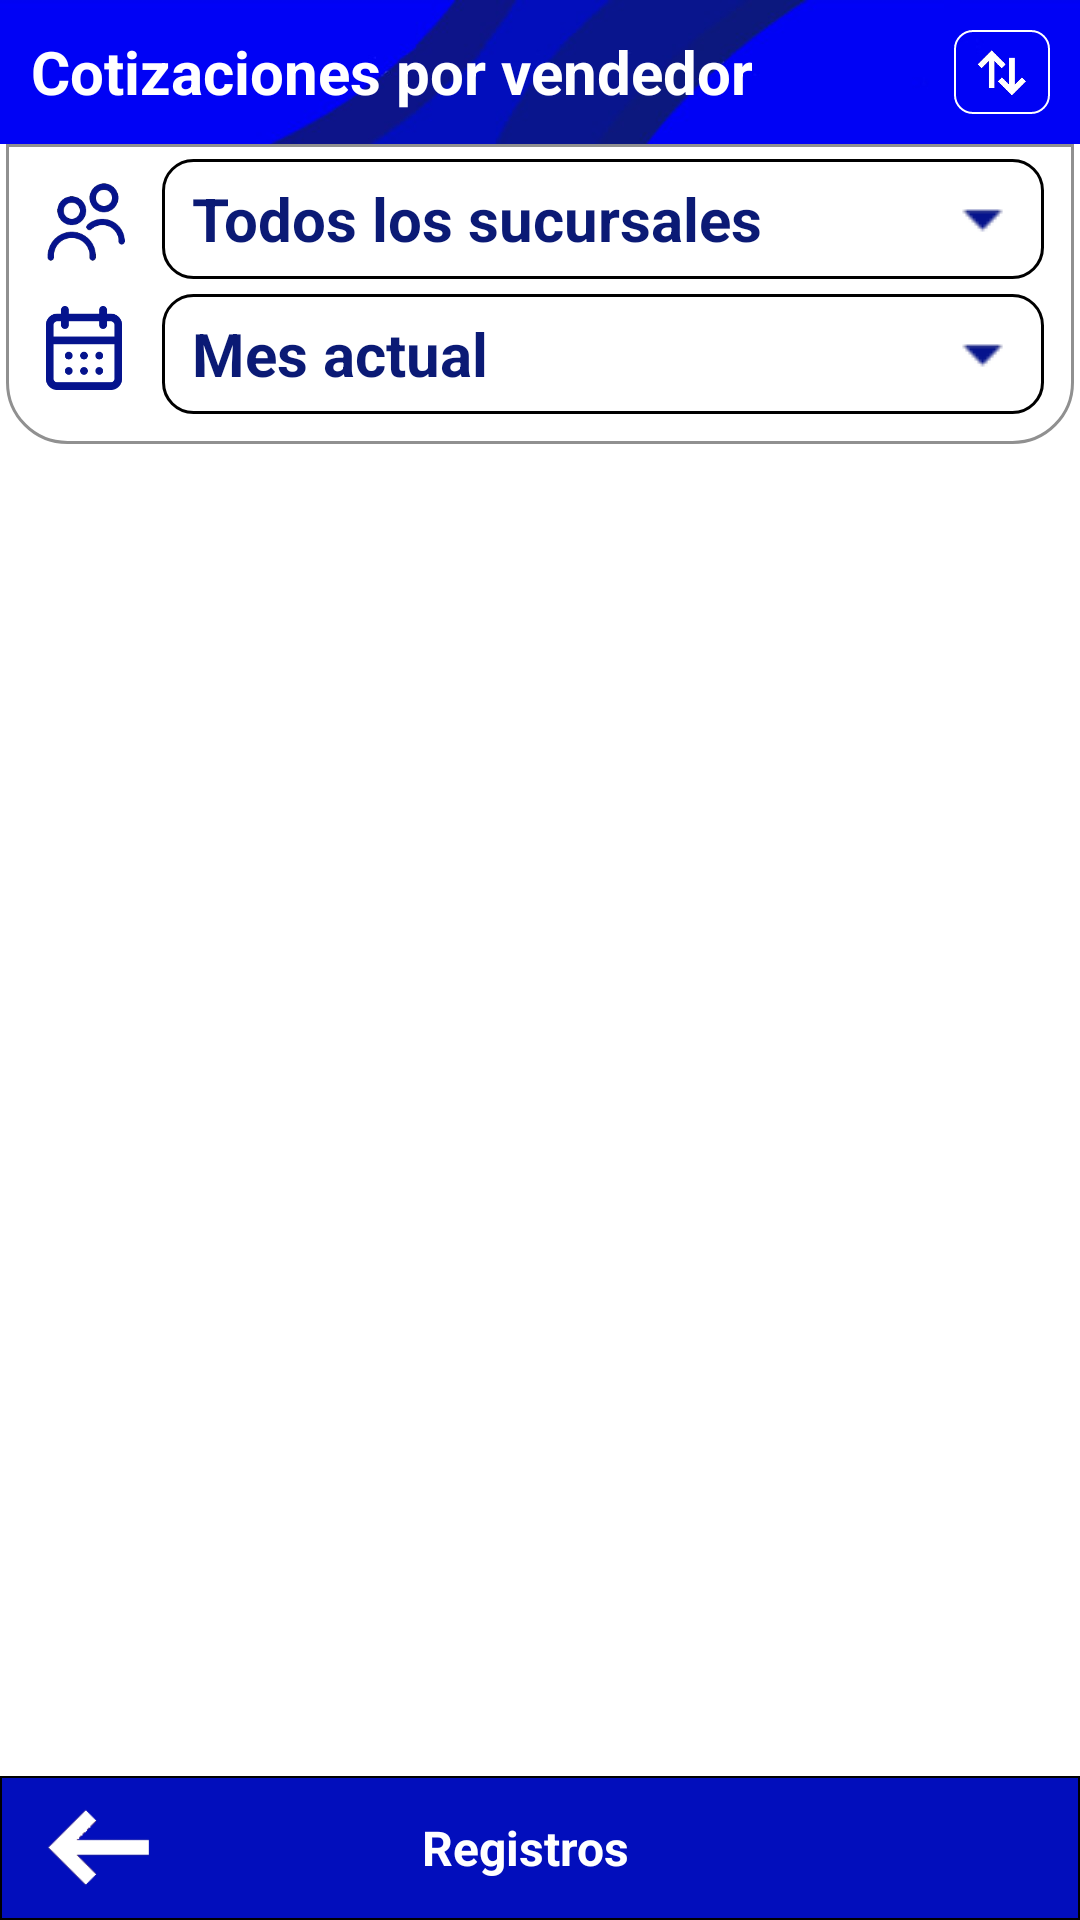

Icons on this 1080 × 1920 Android screen, each with the point to tap as (x=x, y=y):
arr back: (x=96, y=1848)
piconcal: (x=84, y=348)
